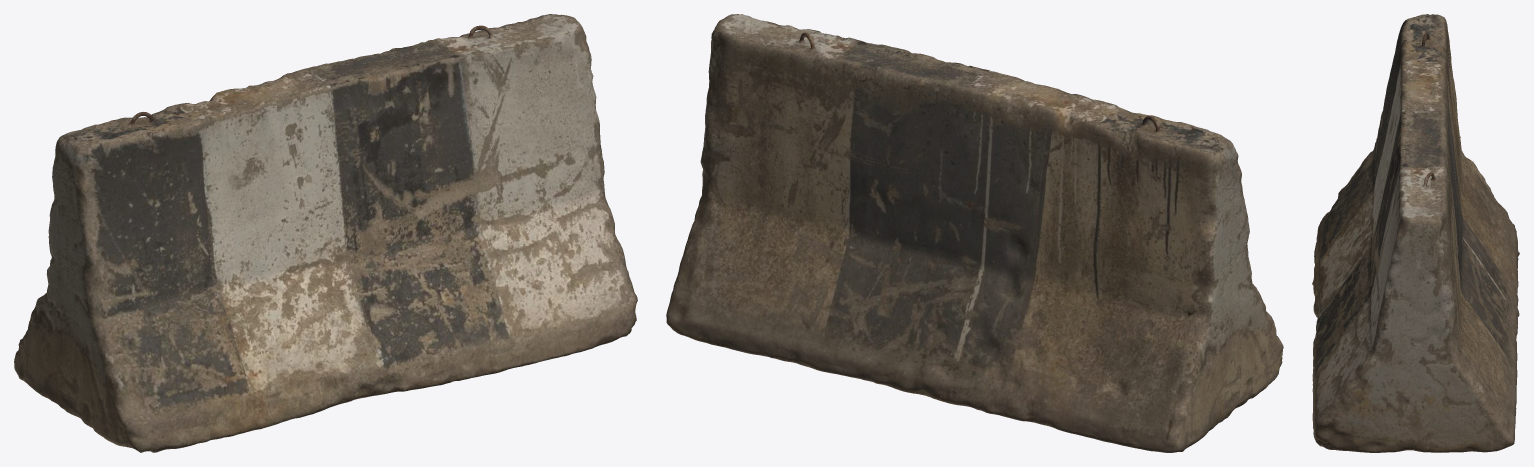
Rendered from concrete_road_barrier.glb.
3 views of the same model, side by side, from view 1: azimuth 30°, elevation 25°; view 2: azimuth 150°, elevation 25°; view 3: azimuth 270°, elevation 25° (orthographic). The views are drawn at different scales.
Parts seen in each view (by area): view 1: concrete_road_barrier; view 2: concrete_road_barrier; view 3: concrete_road_barrier.
Part boxes in pixels (left/top/right/bottom): concrete_road_barrier: left=14, top=14, right=637, bottom=452; concrete_road_barrier: left=666, top=14, right=1283, bottom=452; concrete_road_barrier: left=1312, top=14, right=1519, bottom=452.
Size of the model in its own units: 1.55 by 0.831 by 0.6387.
1 material, 1 textured.
